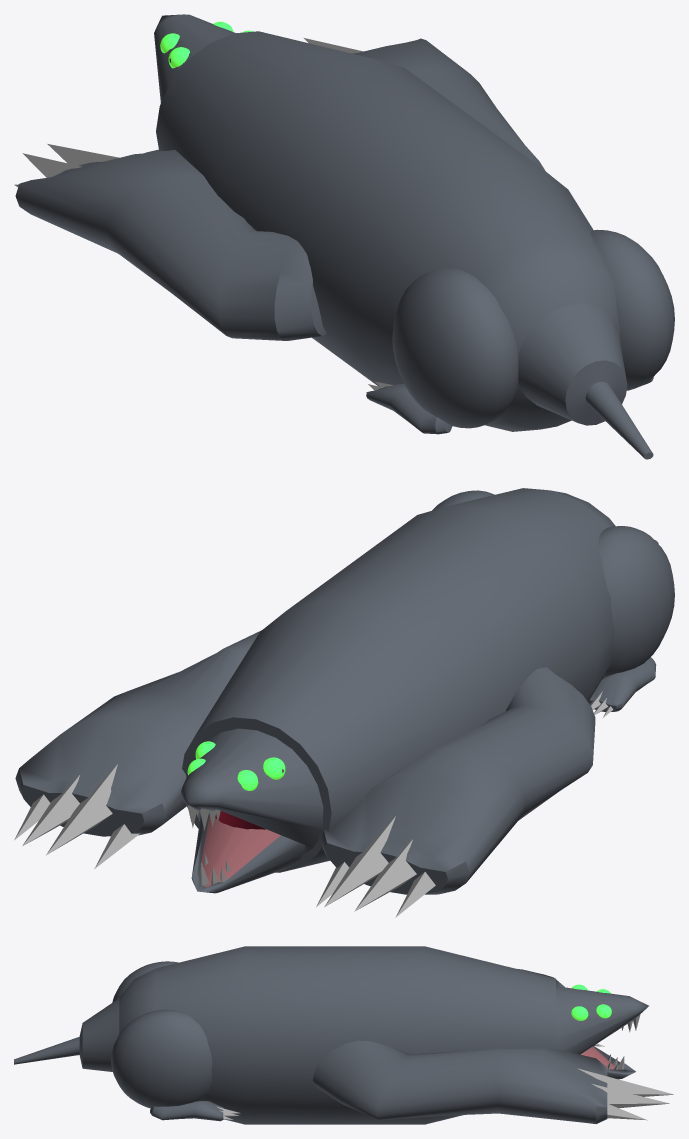
Rendered from enemy_alienrat_attack_alexius.fbx.
The picture shows the model from 3 angles, top to bottom: view 1: azimuth 30°, elevation 25°; view 2: azimuth 150°, elevation 25°; view 3: azimuth 270°, elevation 25°; orthographic projection. The views are drawn at different scales.
Parts seen in each view (by area): view 1: pCylinder1, arm_2, hip_2, hip_1, arm_1, polySurface6, foot_2; view 2: pCylinder1, arm_2, arm_1, polySurface6, hip_2, bottom_teeth1, foot_2; view 3: pCylinder1, arm_1, hip_1, polySurface6, foot_1, bottom_teeth1, hip_2.
Boxes of the visible parts, x1,y1,x2,y2 form: pCylinder1: (156,31,653,459); arm_2: (14,144,326,340); hip_2: (392,267,518,428); hip_1: (591,229,674,390); arm_1: (304,38,545,170); polySurface6: (154,14,252,102); foot_2: (366,381,452,434); pCylinder1: (182,488,658,872); arm_2: (316,667,595,917); arm_1: (14,630,261,868); polySurface6: (181,728,323,859); hip_2: (598,526,674,678); bottom_teeth1: (191,812,305,893); foot_2: (588,657,656,717); pCylinder1: (14,946,555,1124); arm_1: (313,1040,673,1123); hip_1: (111,1009,212,1108); polySurface6: (556,984,648,1054); foot_1: (150,1101,240,1121); bottom_teeth1: (580,1046,635,1079); hip_2: (112,961,178,1002).
Size of the model in its own units: 7.06 by 3.81 by 14.02.
